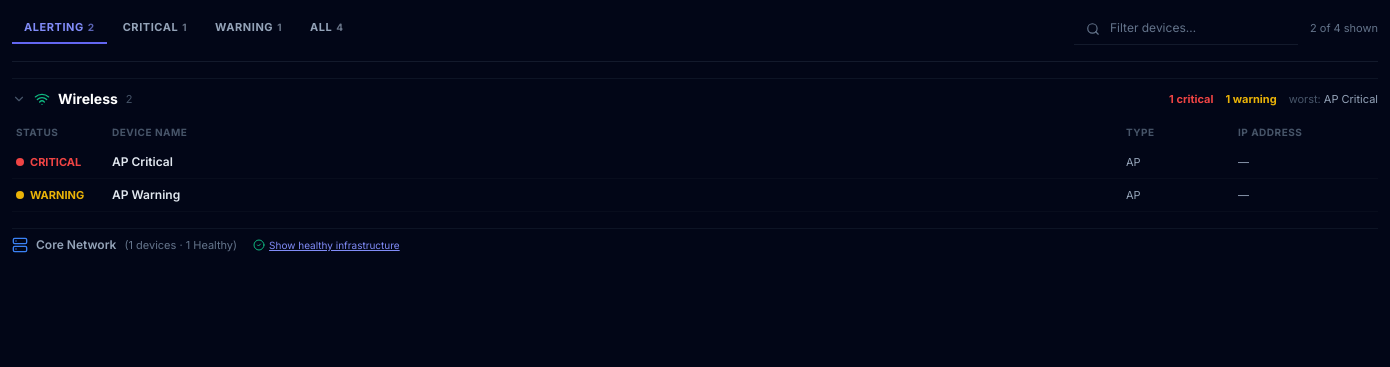
it: HostMapView › filters tiles by search text
Click the button with test id "hostmap-filter-all".
click(327, 29)  # box [298, 13, 356, 44]
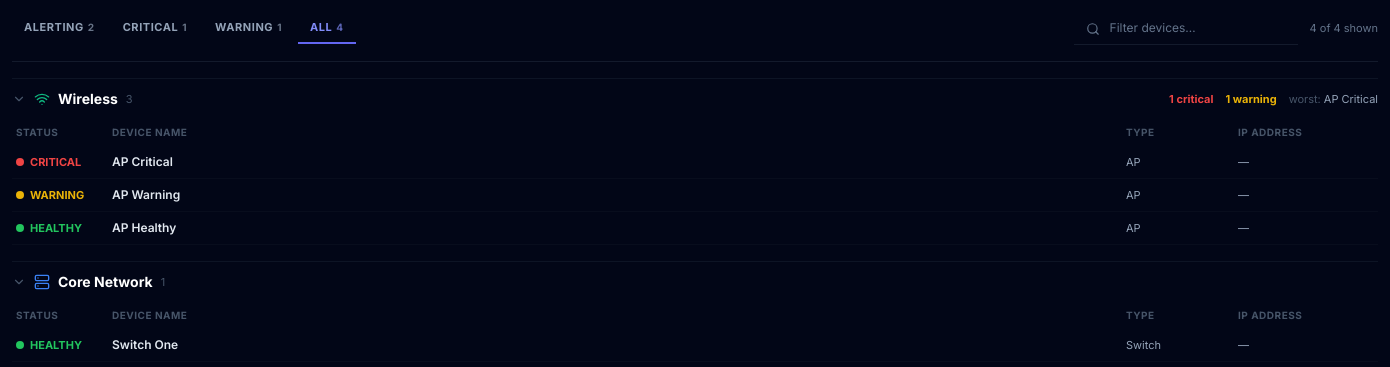
Type "warning" into the field with test id "hostmap-search".
click(1186, 28); type("warning")  # box [1074, 12, 1298, 45]
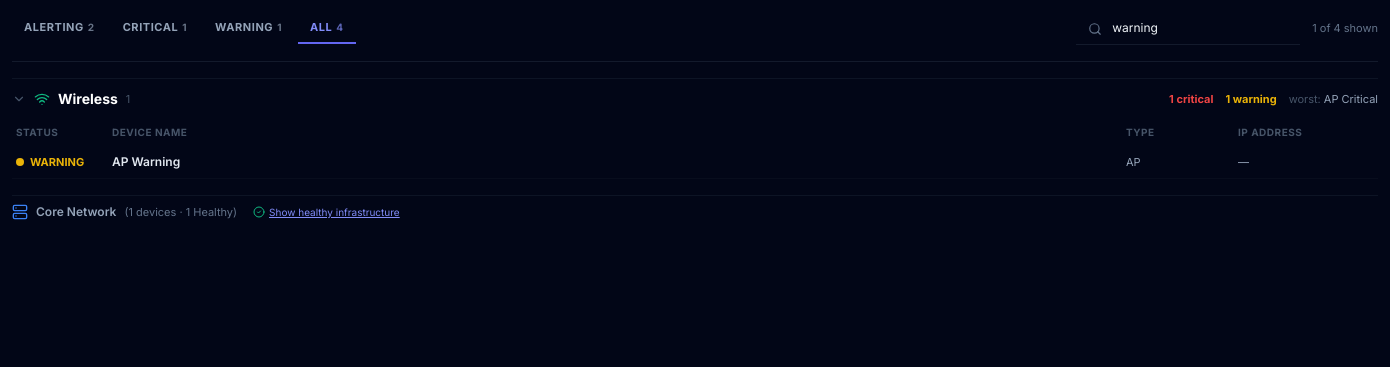
Expected: the row with test id "hostmap-tile-ap2" is shown, [12, 146, 1378, 178]
Now the row with test id "hostmap-tile-ap1" is gone
